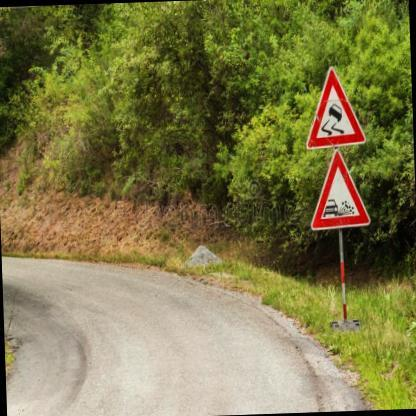road_sign: (308, 67, 366, 149), (312, 150, 370, 230)
